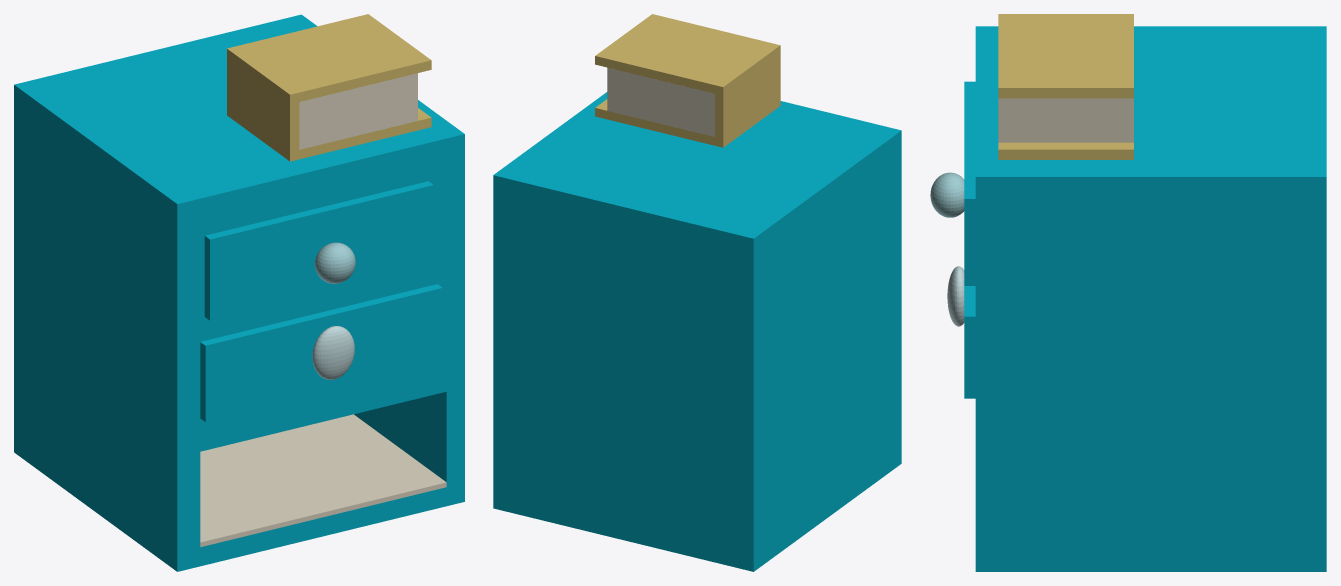
File: Shiny Leelo-Bombul.glb
The picture shows the model from 3 angles, left to right: view 1: azimuth 30°, elevation 25°; view 2: azimuth 150°, elevation 25°; view 3: azimuth 270°, elevation 25°; orthographic projection. The views are drawn at different scales.
Parts seen in each view (by area): view 1: Mesh_Mesh_head_geo.001_lambert2SG.001; view 2: Mesh_Mesh_head_geo.001_lambert2SG.001; view 3: Mesh_Mesh_head_geo.001_lambert2SG.001.
Boxes of the visible parts, x1,y1,x2,y2 form: Mesh_Mesh_head_geo.001_lambert2SG.001: [14, 14, 464, 571]; Mesh_Mesh_head_geo.001_lambert2SG.001: [493, 14, 901, 571]; Mesh_Mesh_head_geo.001_lambert2SG.001: [930, 14, 1326, 571].
Bounding box in the file's own units: 63 × 92 × 70.
